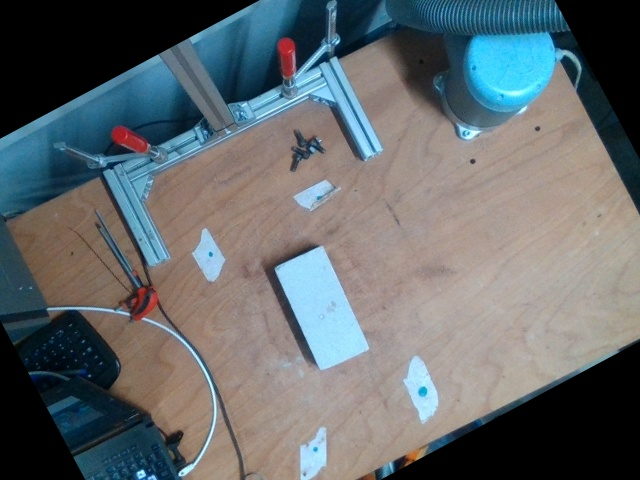brick: (273, 247, 368, 370)
